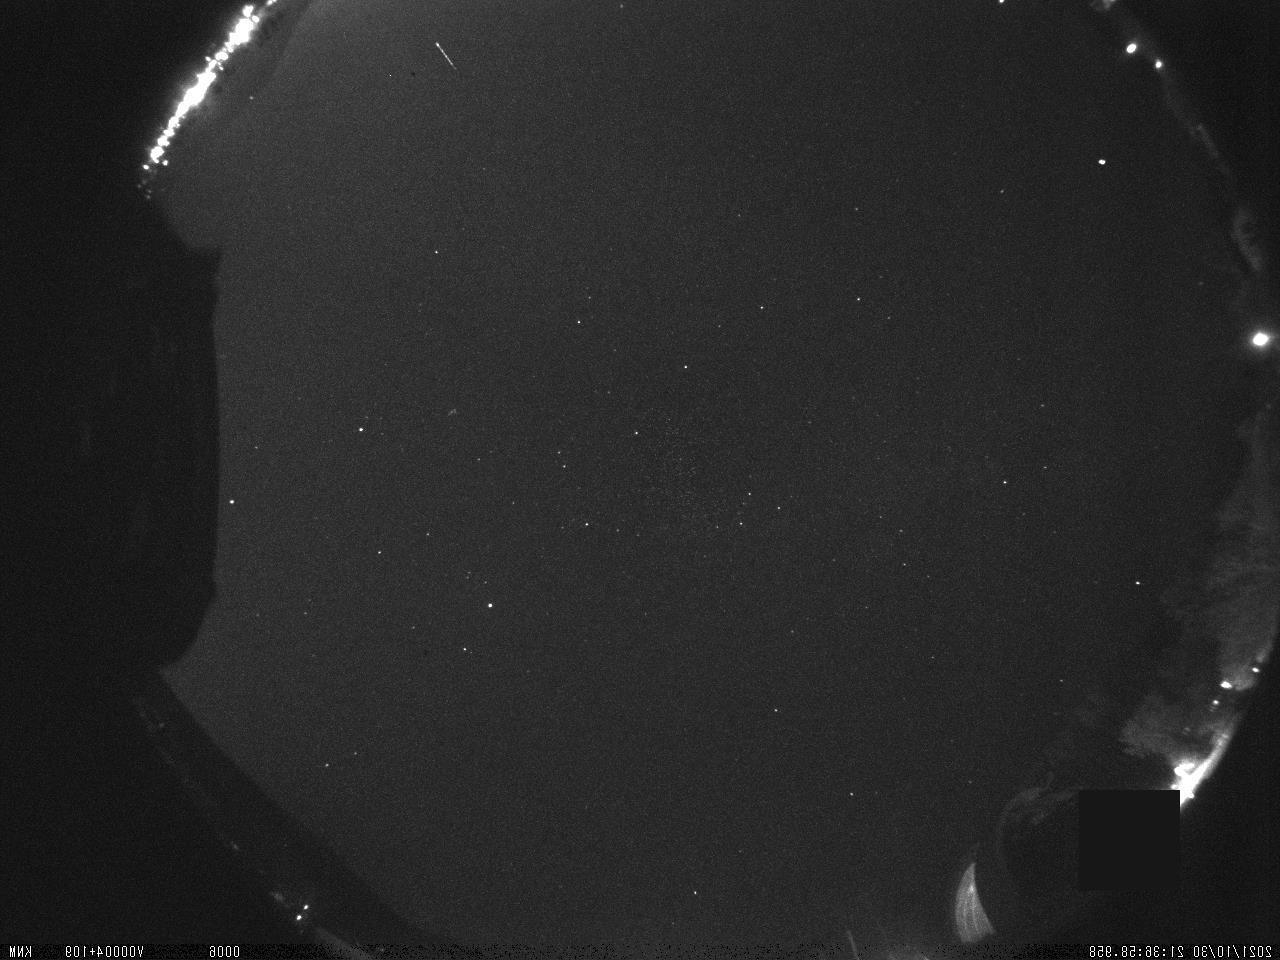meteor: (417, 29, 463, 76)
